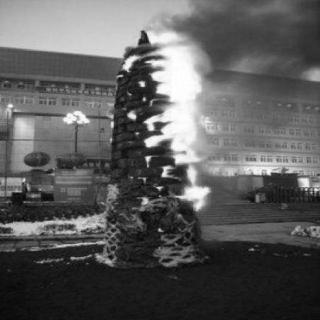other: (108, 224, 160, 268)
